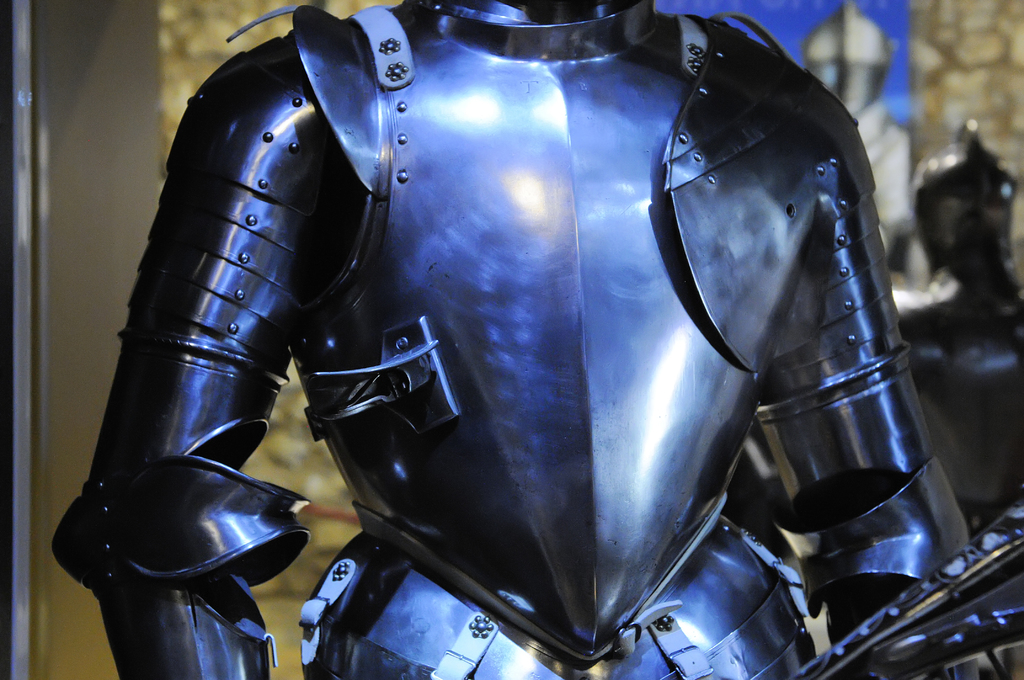Person: (51, 0, 980, 680)
